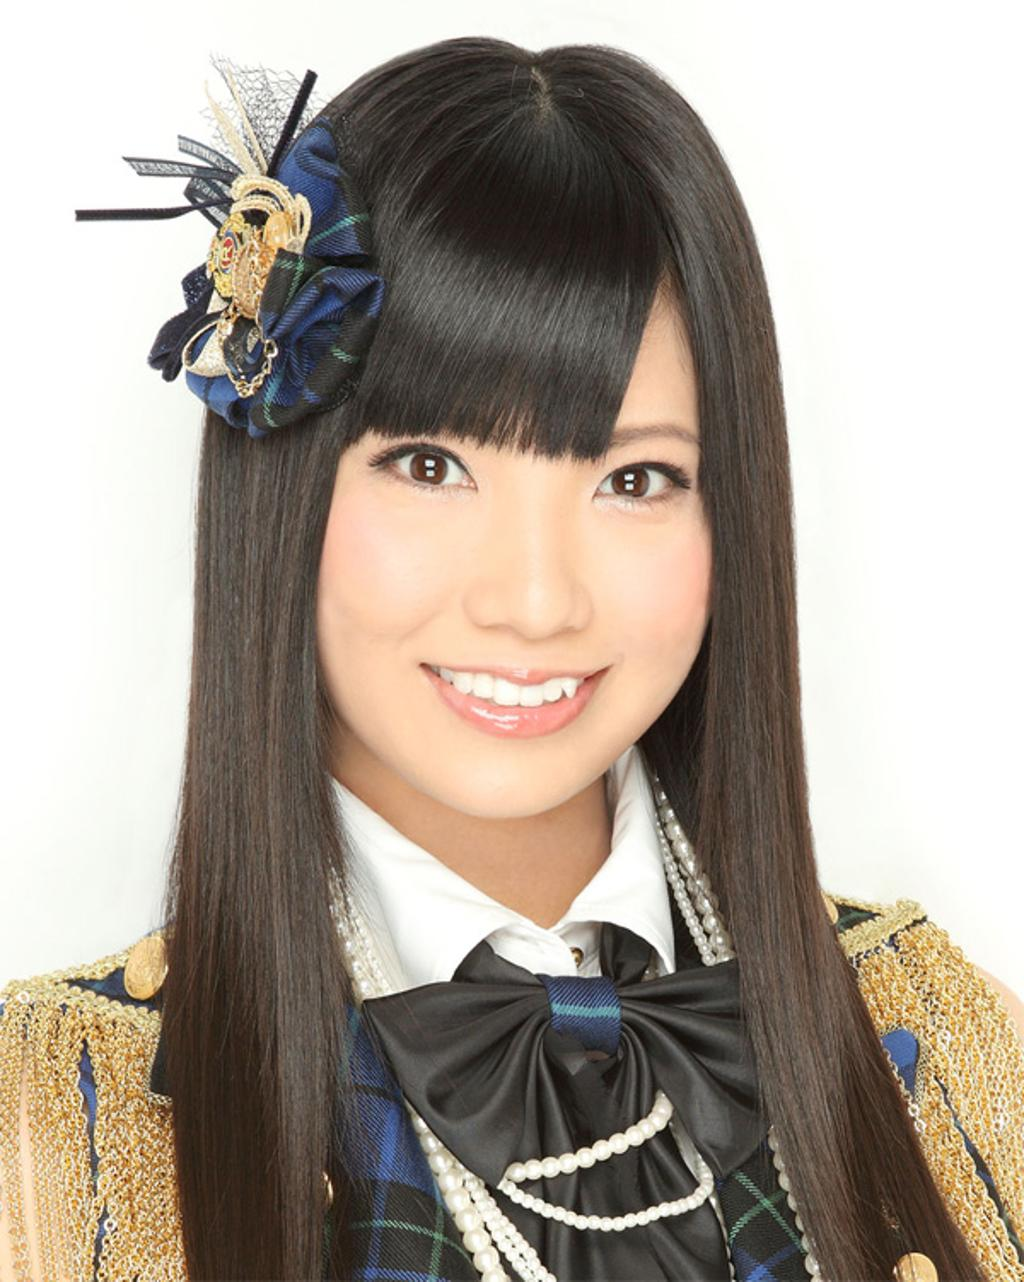face: (298, 245, 726, 823)
